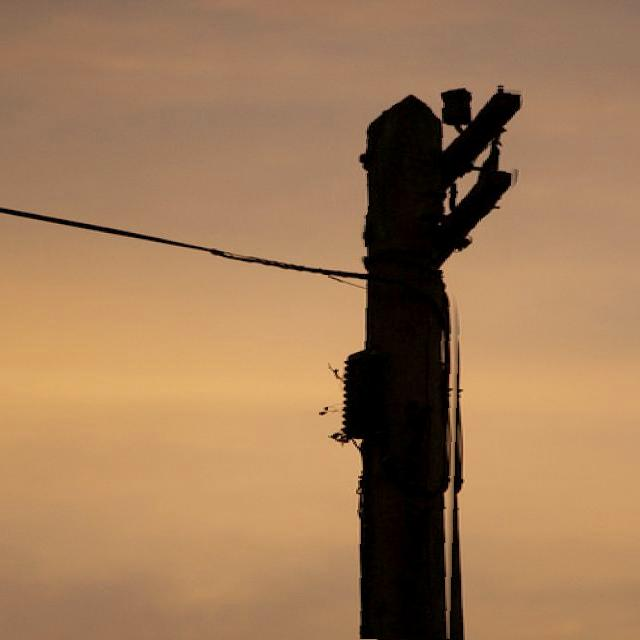crossarm: (432, 87, 522, 270)
pole: (328, 88, 463, 640)
wire: (0, 206, 364, 275)
